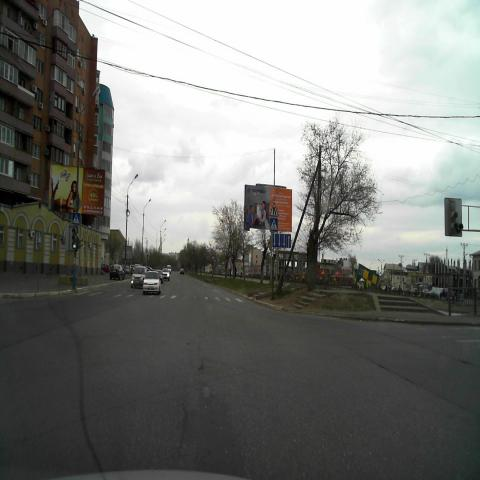1_20_2: (270, 202, 278, 216)
